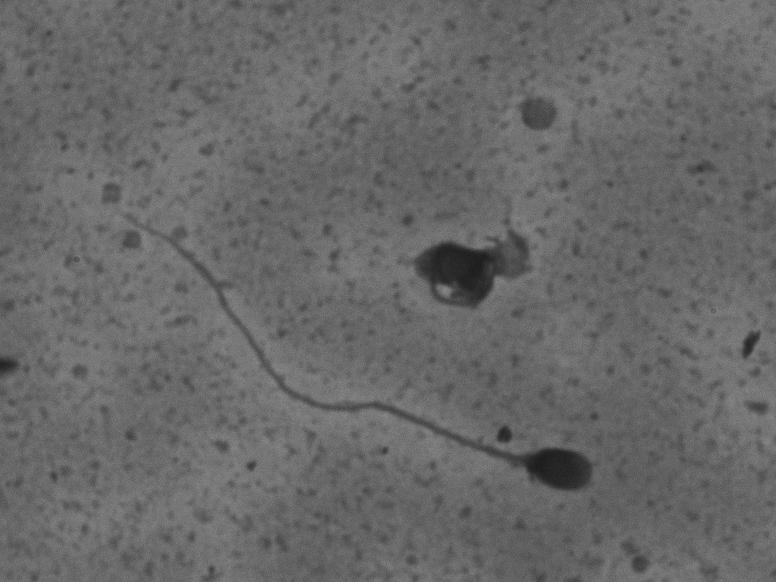Abnormal: (366, 194, 577, 340)
Normal: (92, 197, 602, 500)
